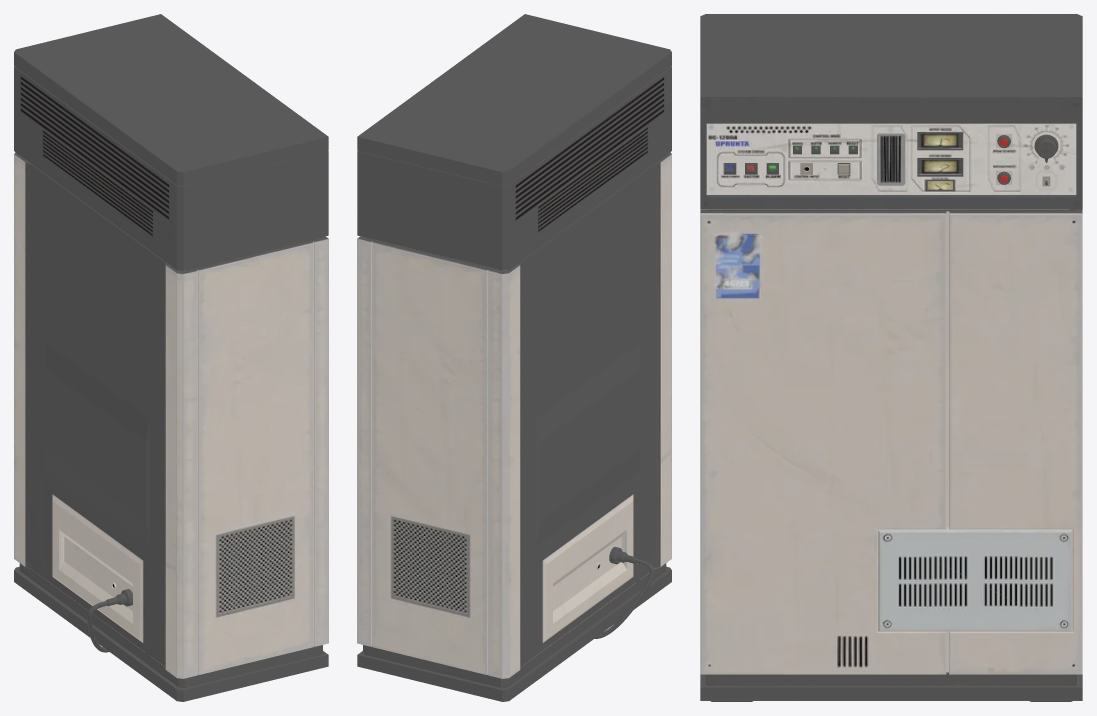
File: retro_industrial_control_cabinet.glb
The picture shows the model from 3 angles, left to right: view 1: azimuth 30°, elevation 25°; view 2: azimuth 150°, elevation 25°; view 3: azimuth 270°, elevation 25°; orthographic projection. The views are drawn at different scales.
Bounding box in the file's own units: 0.5251 × 1.42 × 0.805.
1 material, 1 textured.
